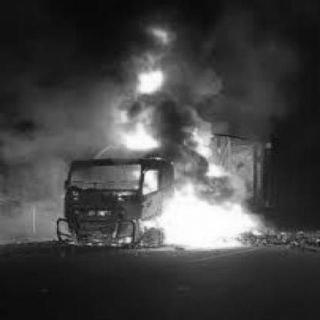Fire: (102, 68, 220, 158), (140, 24, 182, 48)
